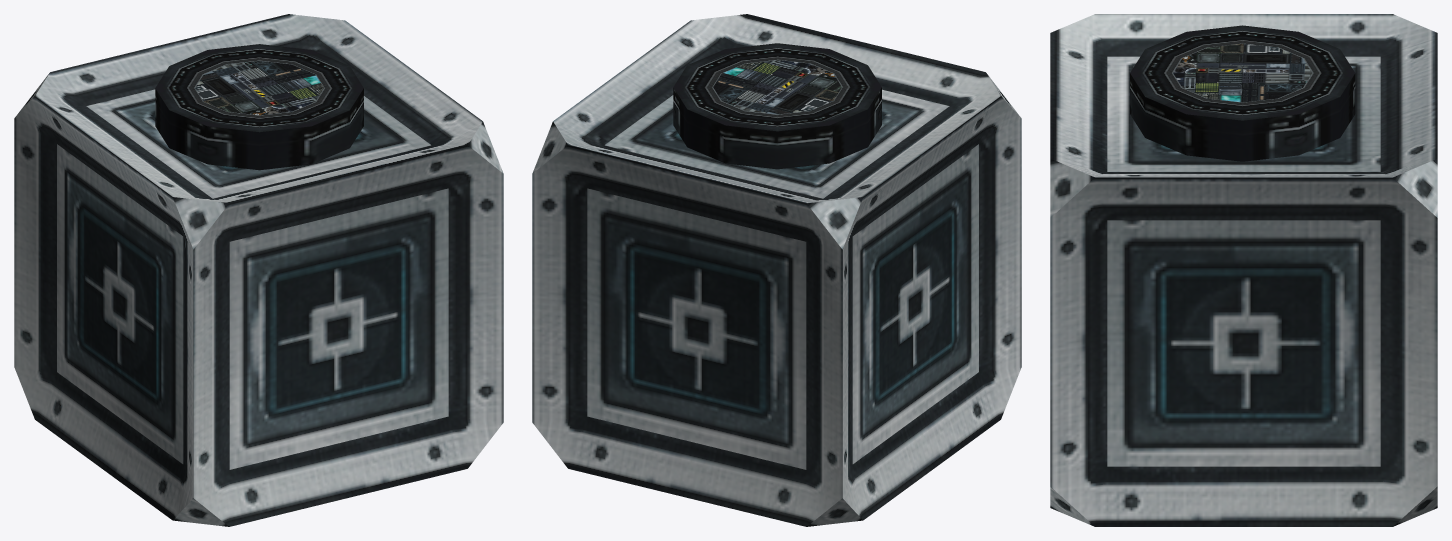
File: Crate03.FBX
3 renders of one model, left to right at view 1: azimuth 30°, elevation 25°; view 2: azimuth 150°, elevation 25°; view 3: azimuth 270°, elevation 25°, orthographic. The views are drawn at different scales.
Parts seen in each view (by area): view 1: Crate03, Liquid; view 2: Crate03, Liquid; view 3: Crate03, Liquid.
Boxes of the visible parts, <box> form: Crate03: <box>14,14,503,526</box>; Liquid: <box>195,61,323,115</box>; Crate03: <box>532,14,1021,526</box>; Liquid: <box>713,60,841,114</box>; Crate03: <box>1050,14,1437,526</box>; Liquid: <box>1173,43,1311,102</box>.
Size of the model in its own units: 129 by 137 by 129.
